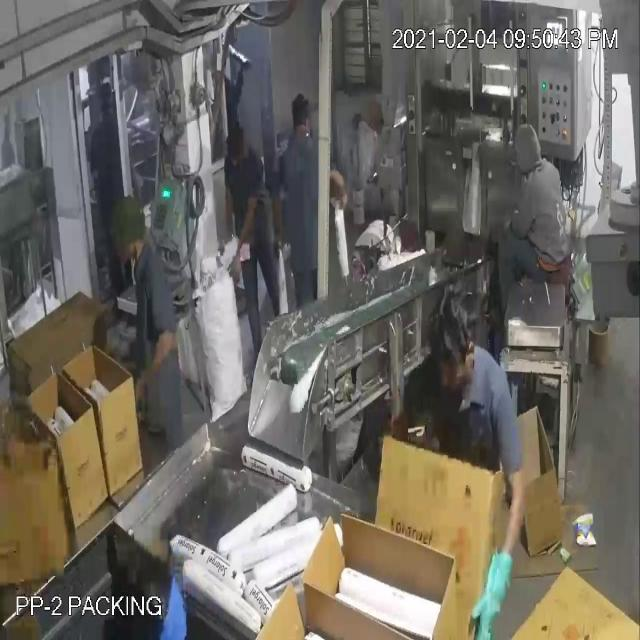No_Gloves: (18, 71, 491, 583)
